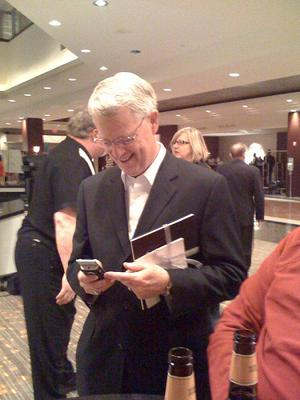person: (67, 71, 247, 400)
